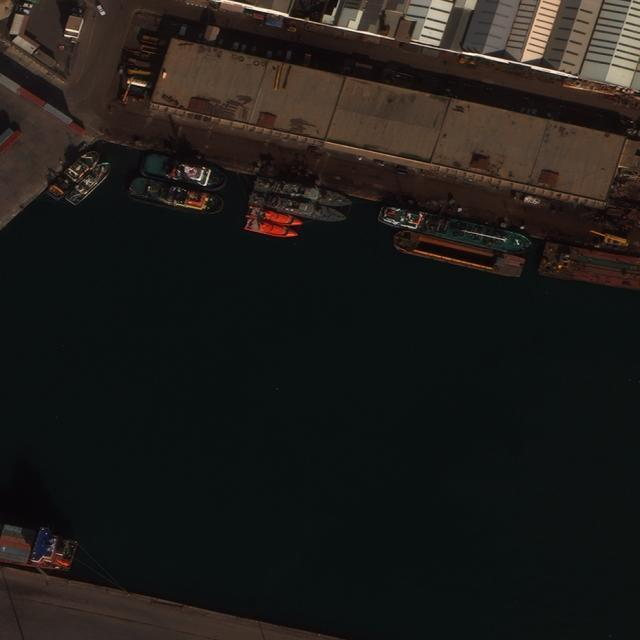Oil Tanker: (376, 203, 536, 257), (390, 230, 526, 279), (537, 242, 639, 291)
Other Ship: (125, 175, 228, 223), (139, 149, 230, 195), (1, 523, 81, 572), (43, 143, 103, 205), (66, 158, 116, 210), (523, 195, 541, 205)
Other Warship: (247, 189, 350, 227), (253, 174, 355, 211), (244, 217, 300, 242), (246, 205, 303, 228)
